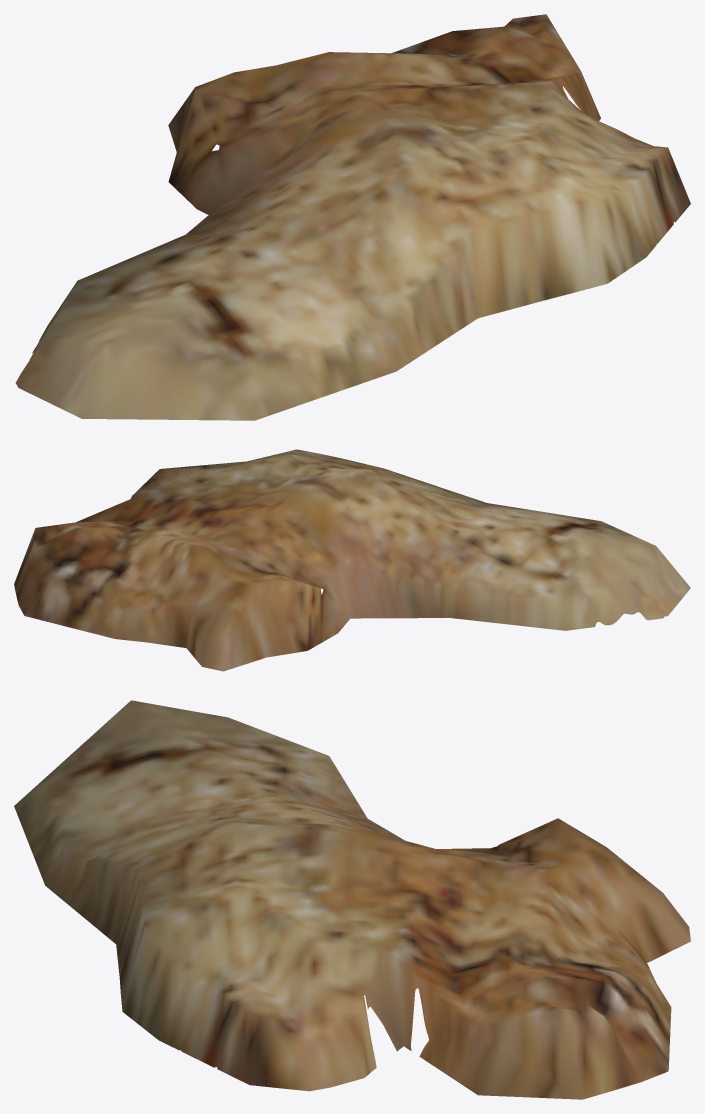
The model's file is moldy_cheese.FBX.
3 renders of one model, top to bottom at view 1: azimuth 30°, elevation 25°; view 2: azimuth 150°, elevation 25°; view 3: azimuth 270°, elevation 25°, orthographic. The views are drawn at different scales.
Parts seen in each view (by area): view 1: moldy_cheese; view 2: moldy_cheese; view 3: moldy_cheese.
Part boxes in pixels (bbox=[...]): moldy_cheese: bbox=[15, 14, 690, 420]; moldy_cheese: bbox=[14, 449, 690, 671]; moldy_cheese: bbox=[14, 700, 690, 1099].
Bounding box in the file's own units: 21.01 × 3.23 × 16.37.
